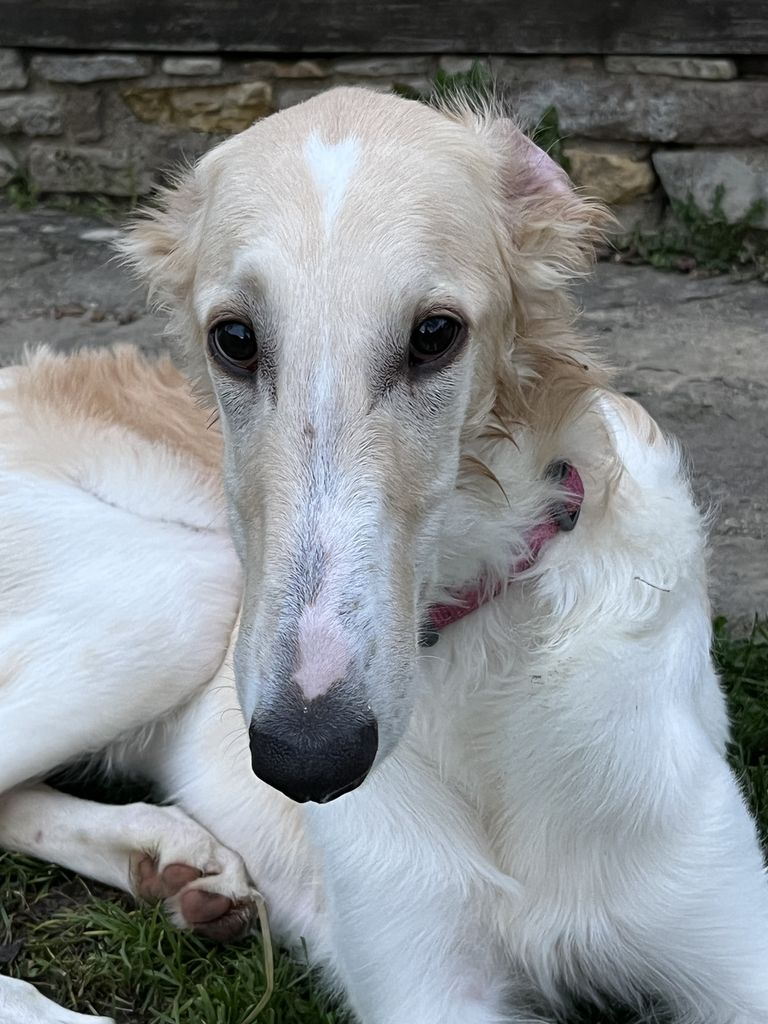borzoi: (2, 72, 739, 1024)
